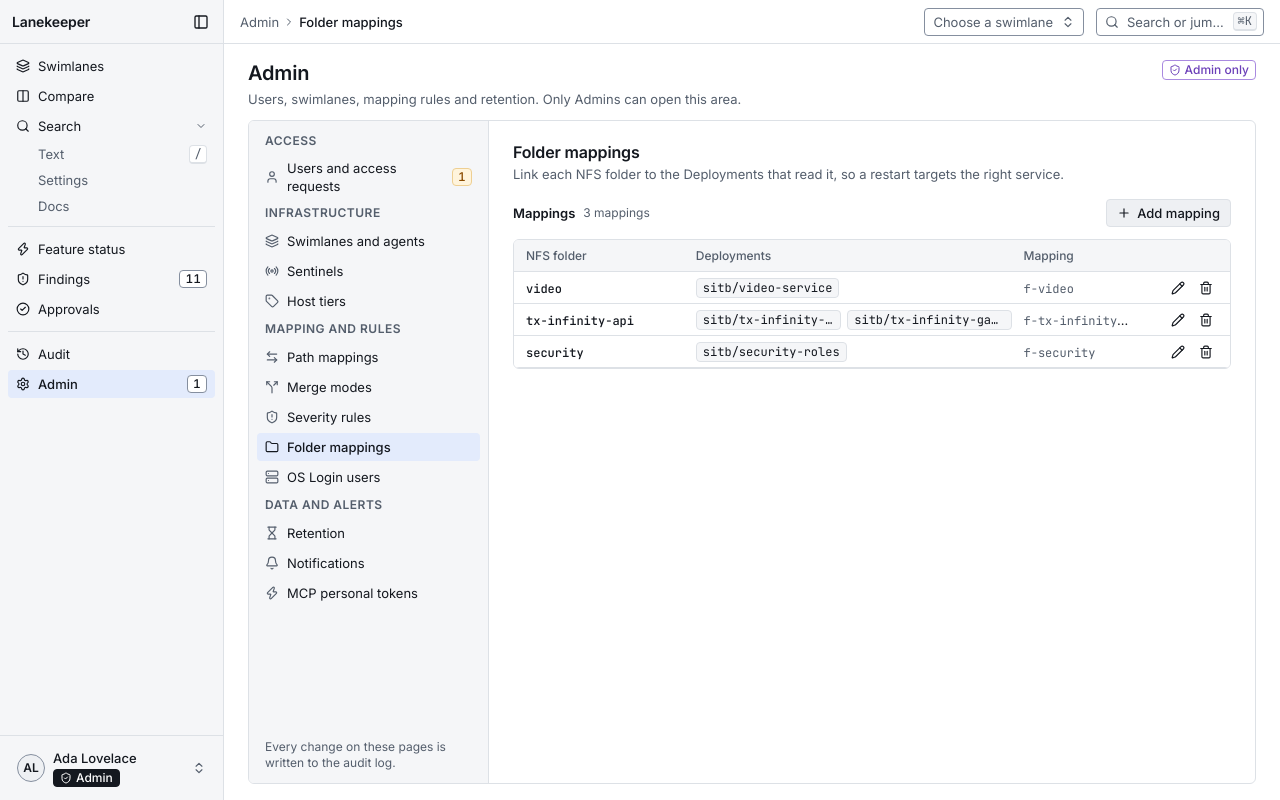
Test: adding, changing and deleting › keeps the dialog when the hub does not accept the mapping (422)
This screenshot has width=1280, height=800.
expect the heading "Admin" is shown: met, box [248,61,309,85]
Click the button "Add mapping" at (1169,213), box [1106,199,1231,227]
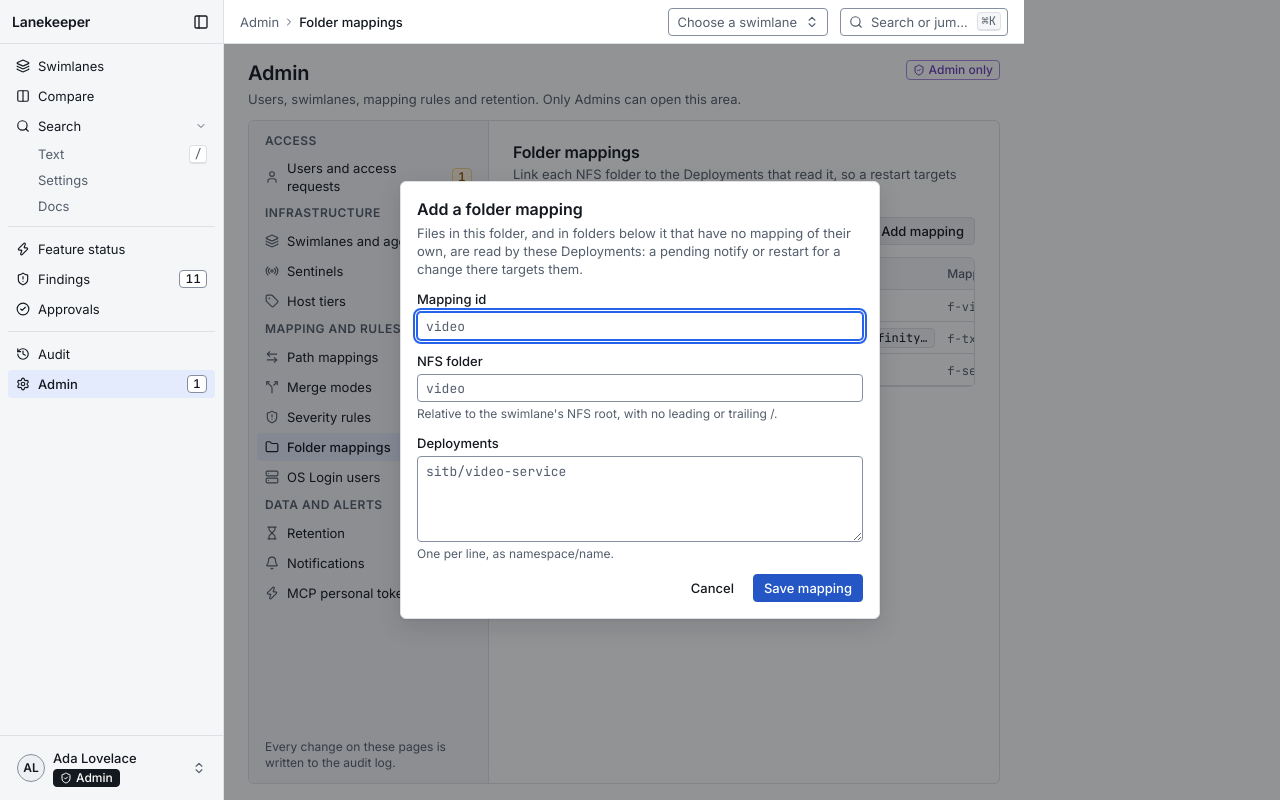
Type "x" into the field labelled "Mapping id" at (640,326), box [417,312,863,340]
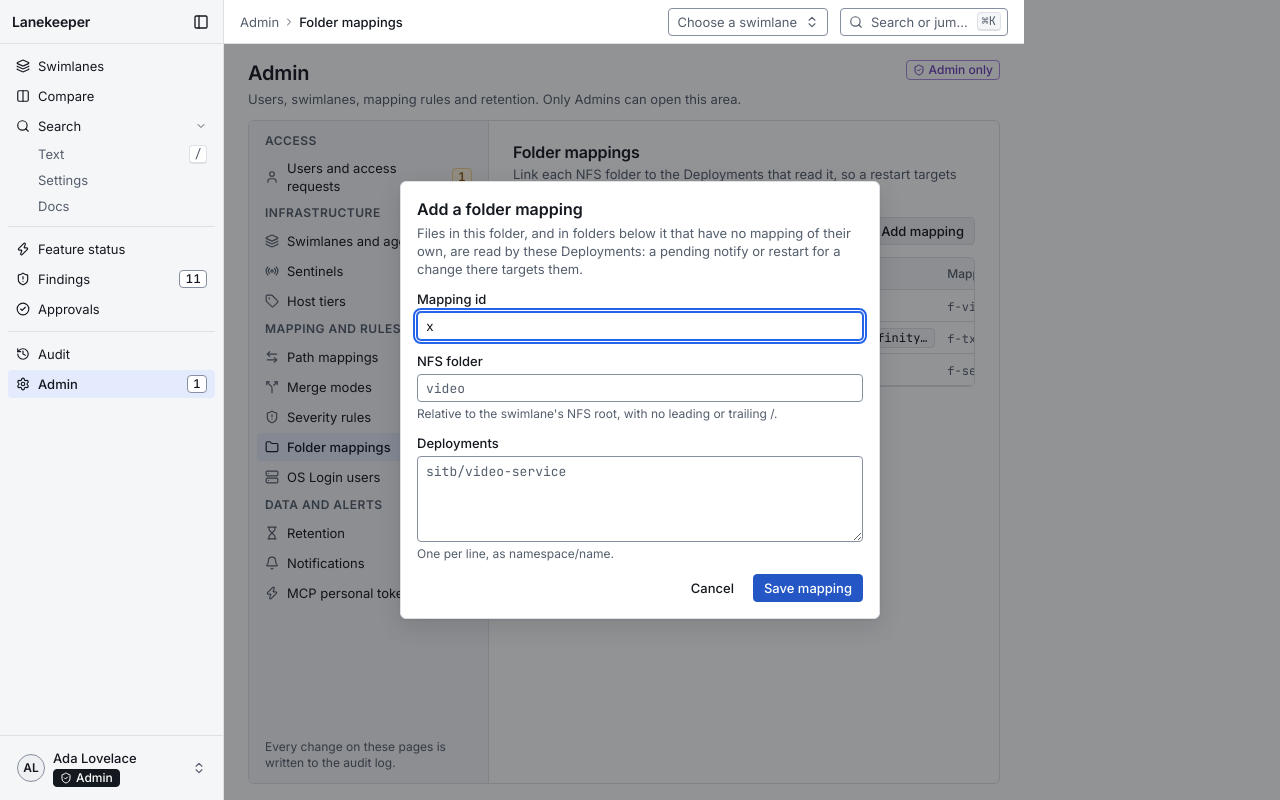
Type "x" into the field labelled "NFS folder" at (640,388), box [417,374,863,402]
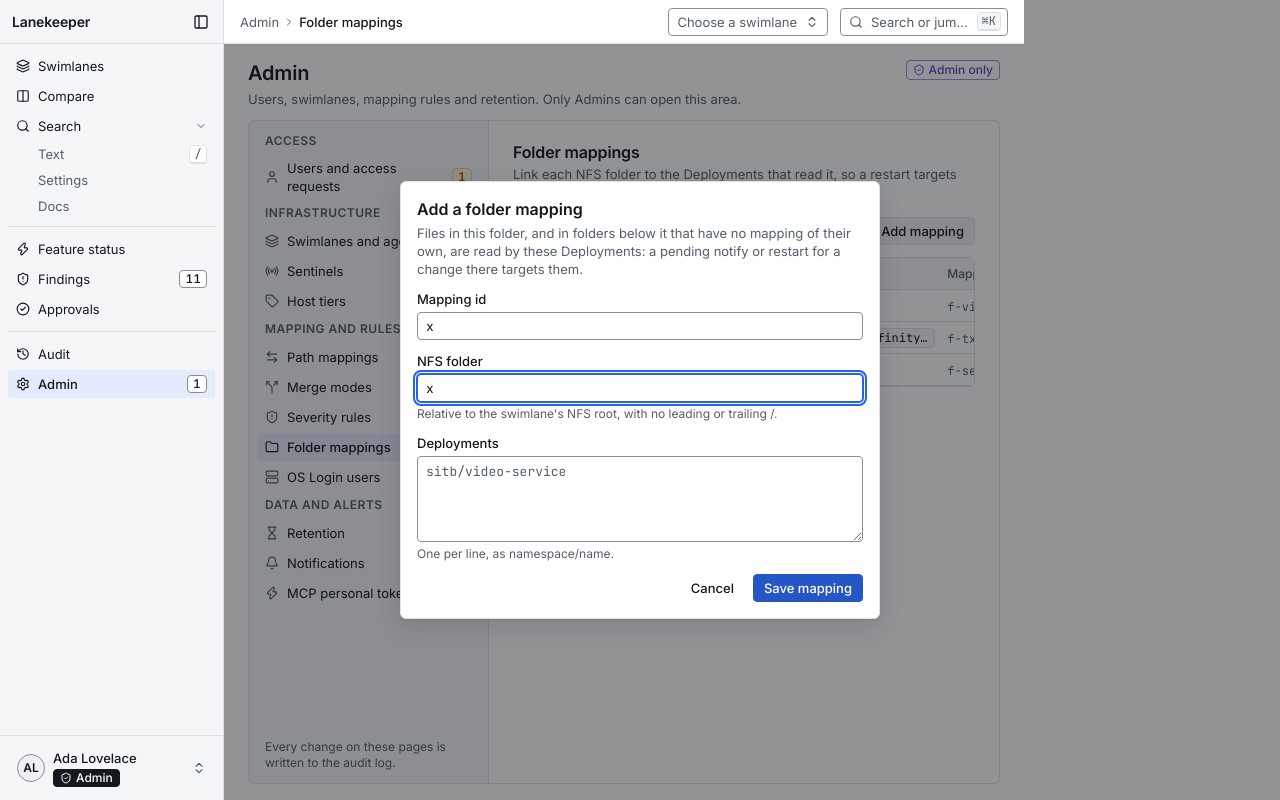
Type "sitb/x" into the text box labelled "Deployments" at (640,499), box [417,456,863,542]
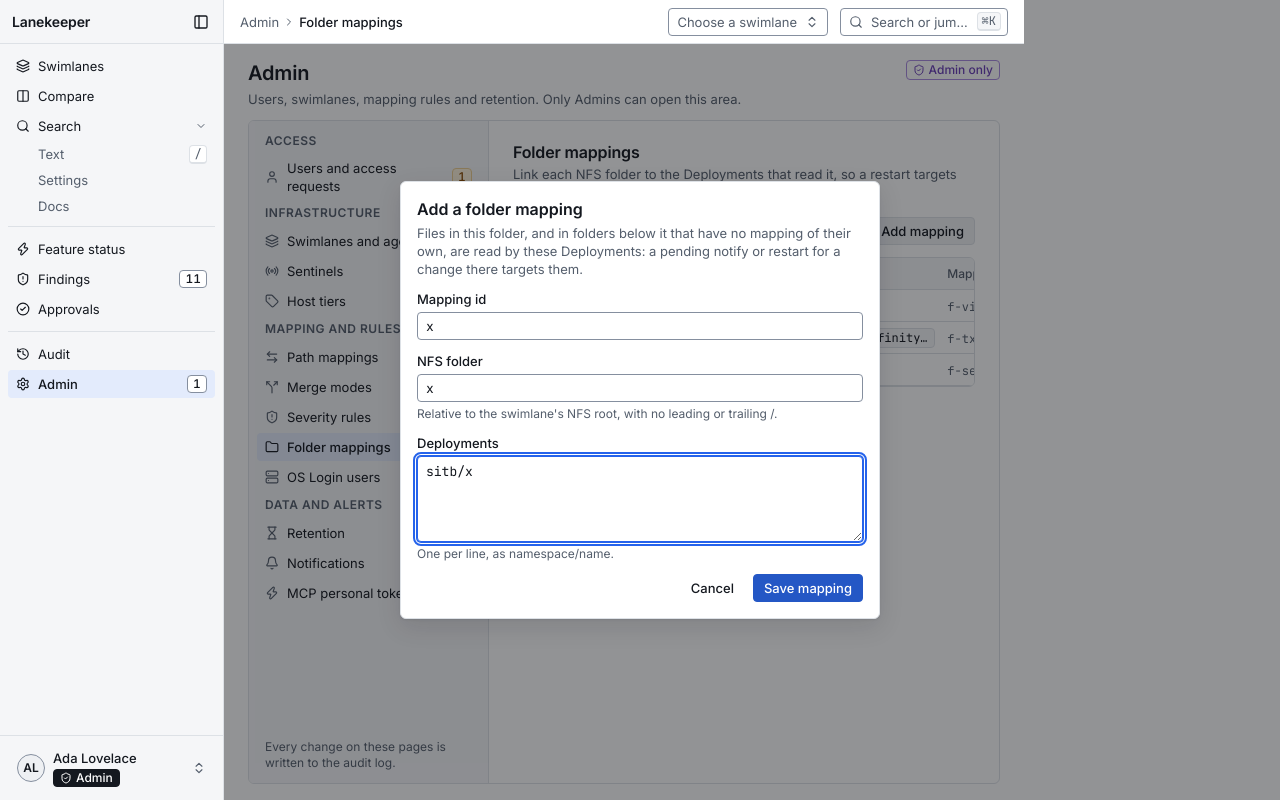
Click the button "Save mapping" at (808,588), box [753,574,863,602]
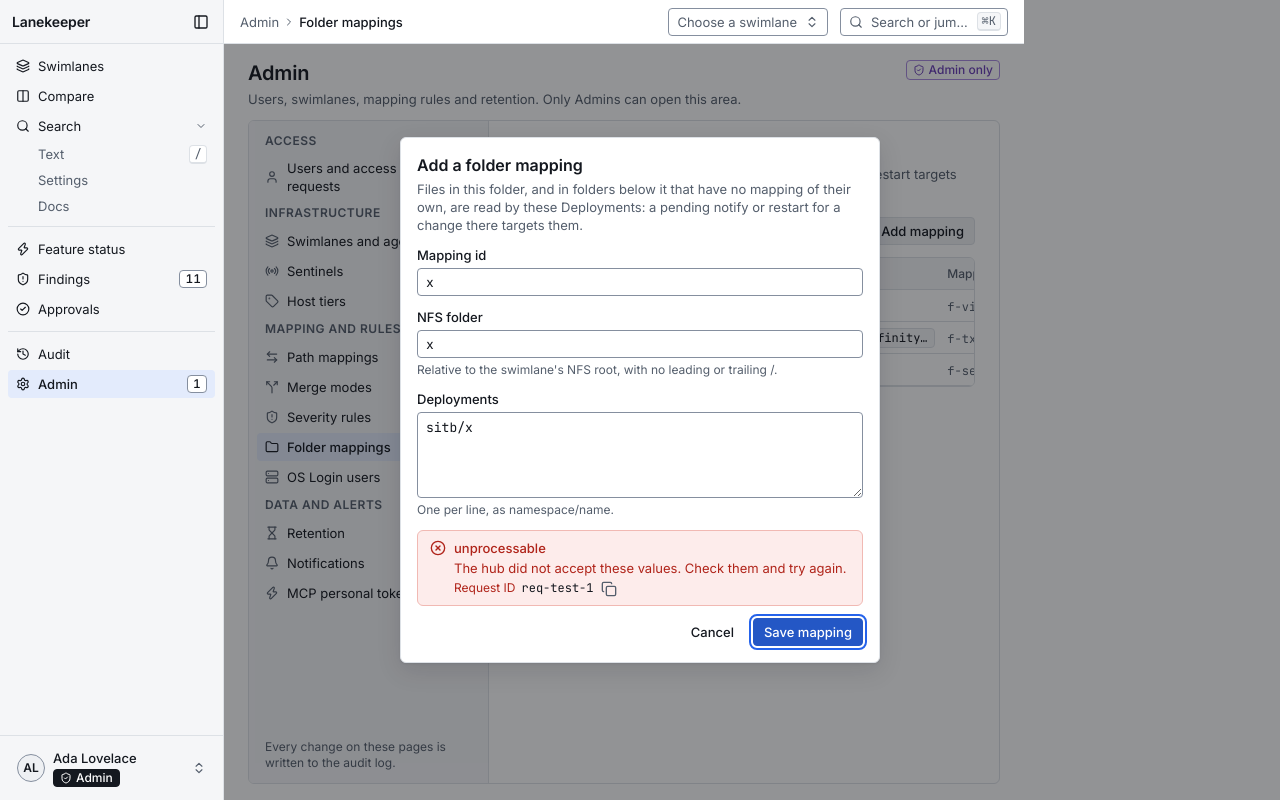
expect the text "did not accept these values" is shown: met, box [454,560,846,576]
